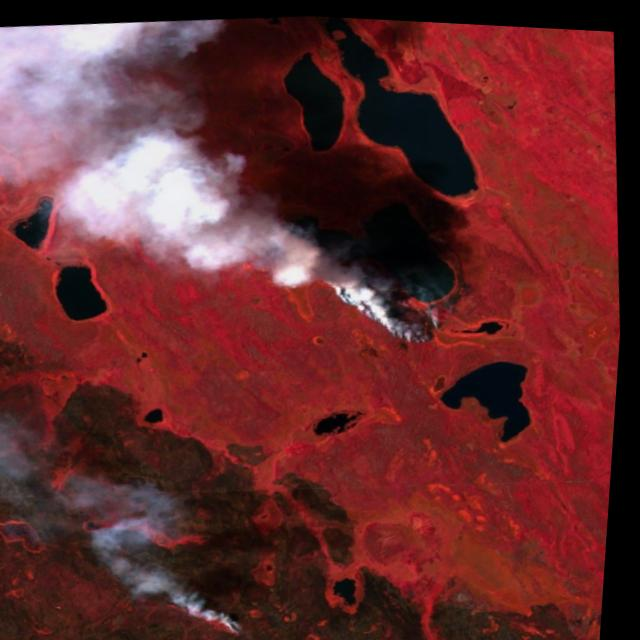fire: (318, 257, 464, 354), (211, 598, 268, 640)
